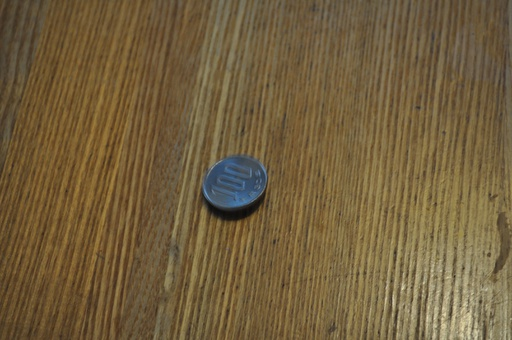100yen: (203, 155, 267, 212)
